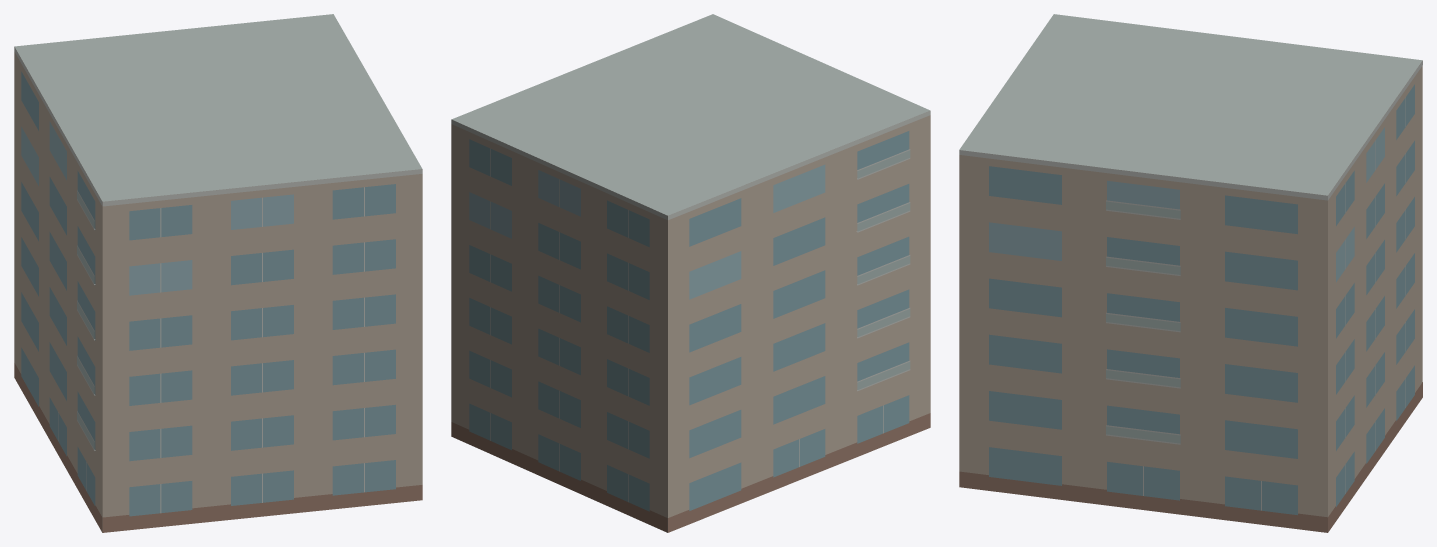
The model's file is survey-upis-32880932.glb.
3 renders of one model, left to right at view 1: azimuth 30°, elevation 25°; view 2: azimuth 150°, elevation 25°; view 3: azimuth 270°, elevation 25°, orthographic. The views are drawn at different scales.
Parts seen in each view (by area): view 1: survey-upis-32880932.tmp; view 2: survey-upis-32880932.tmp; view 3: survey-upis-32880932.tmp.
Part boxes in pixels (bbox=[...]): survey-upis-32880932.tmp: bbox=[14, 14, 422, 532]; survey-upis-32880932.tmp: bbox=[451, 14, 930, 532]; survey-upis-32880932.tmp: bbox=[959, 14, 1422, 532].
Size of the model in its own units: 19.54 by 16.9 by 21.07.
